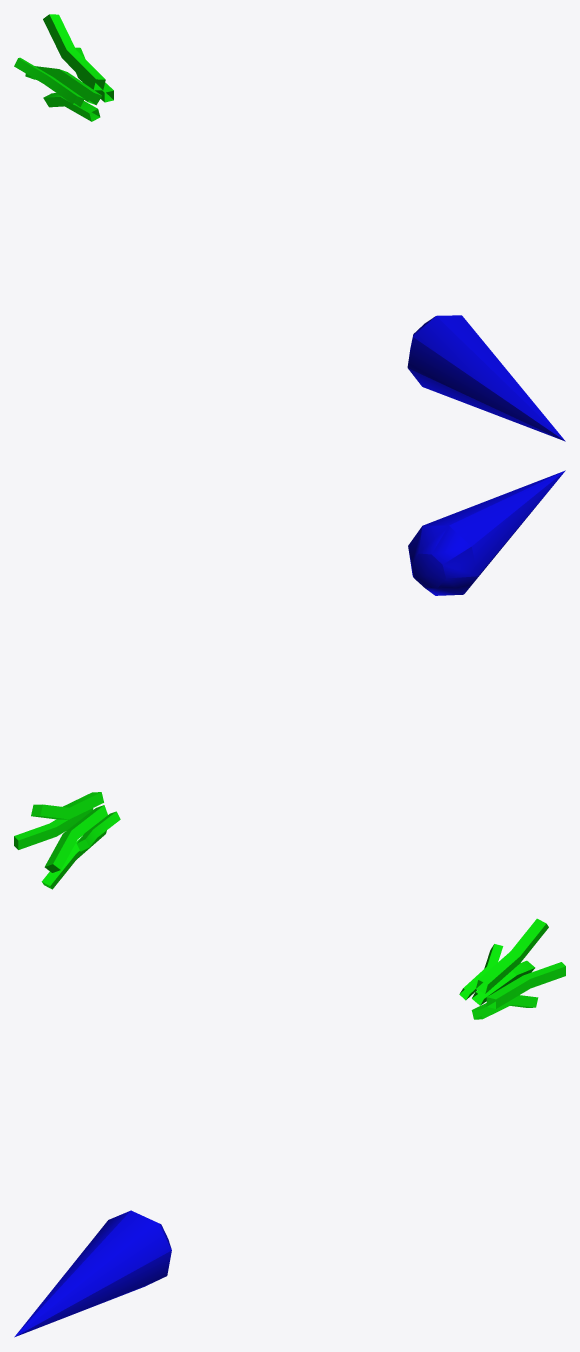
File: karotte_low_explosion.fbx
The picture shows the model from 3 angles, top to bottom: view 1: azimuth 30°, elevation 25°; view 2: azimuth 150°, elevation 25°; view 3: azimuth 330°, elevation 25°; orthographic projection.
Visible parts, largest first — view 1: polySurface14, polySurface15; view 2: polySurface14, polySurface15; view 3: polySurface14, polySurface15.
Part boxes in pixels (left/top/right/bottom): polySurface14: left=407, top=315, right=565, bottom=441; polySurface15: left=14, top=14, right=113, bottom=121; polySurface14: left=408, top=470, right=565, bottom=595; polySurface15: left=14, top=792, right=120, bottom=889; polySurface14: left=14, top=1210, right=171, bottom=1337; polySurface15: left=459, top=918, right=565, bottom=1019.
Bounding box in the file's own units: 0.1212 × 0.1428 × 1.55.
